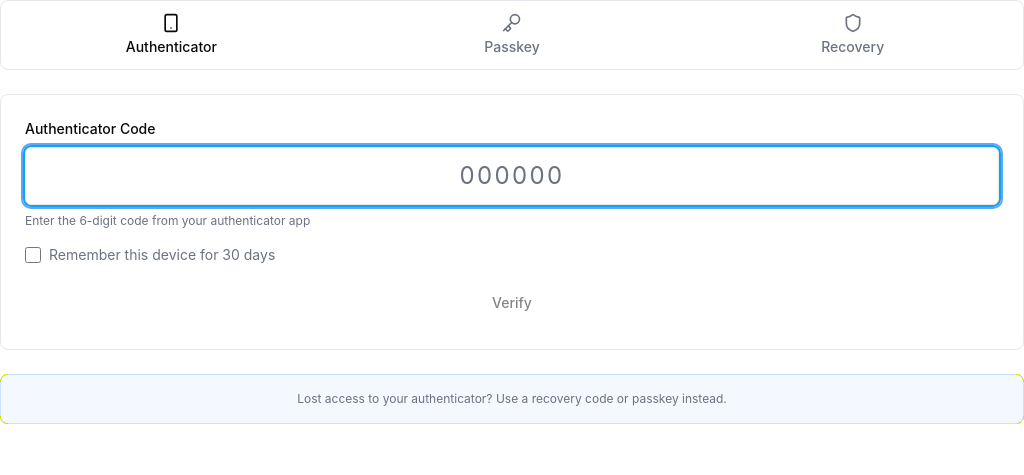
TwoFactorVerification › WebAuthn Verification › should handle WebAuthn verification failure
Click the button "Passkey".
click(512, 35)  # box [346,5,678,65]
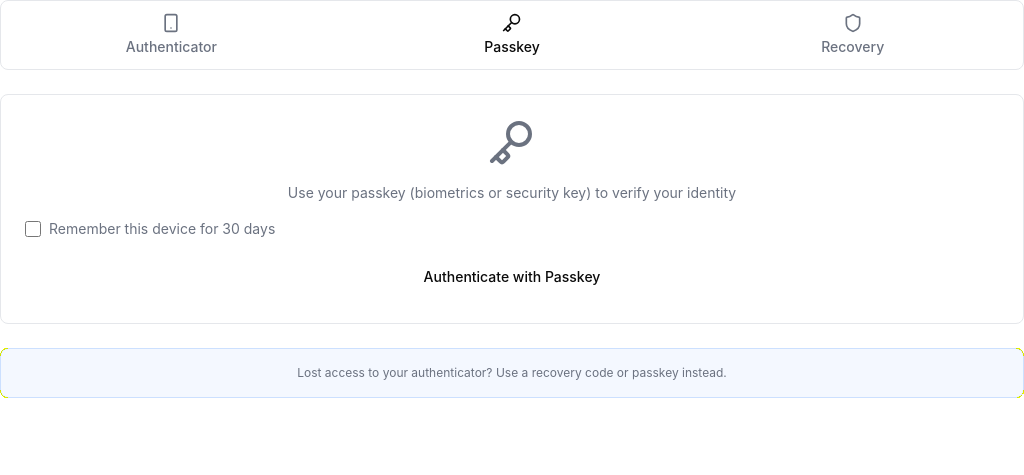
Click the button "Authenticate with Passkey".
click(512, 277)  # box [25,255,999,299]
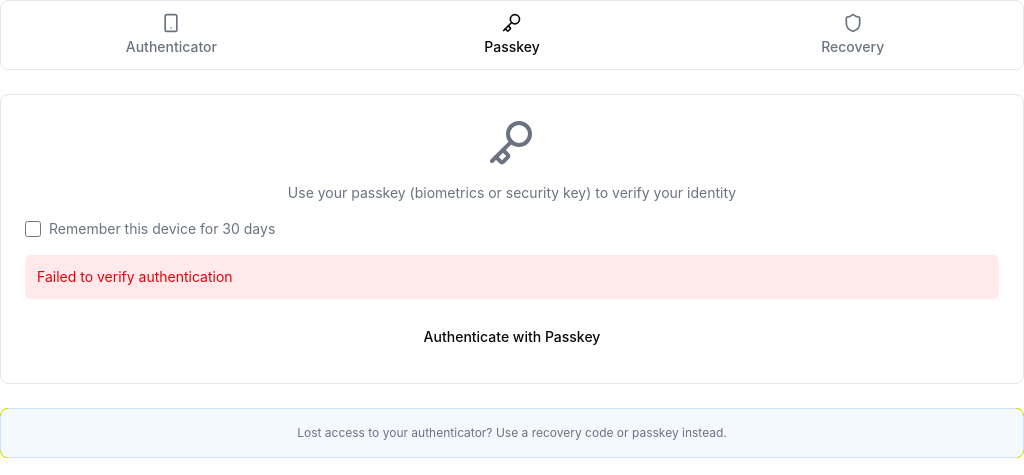
Now the text "Failed to verify authentication" is shown, box [25,255,999,299]
